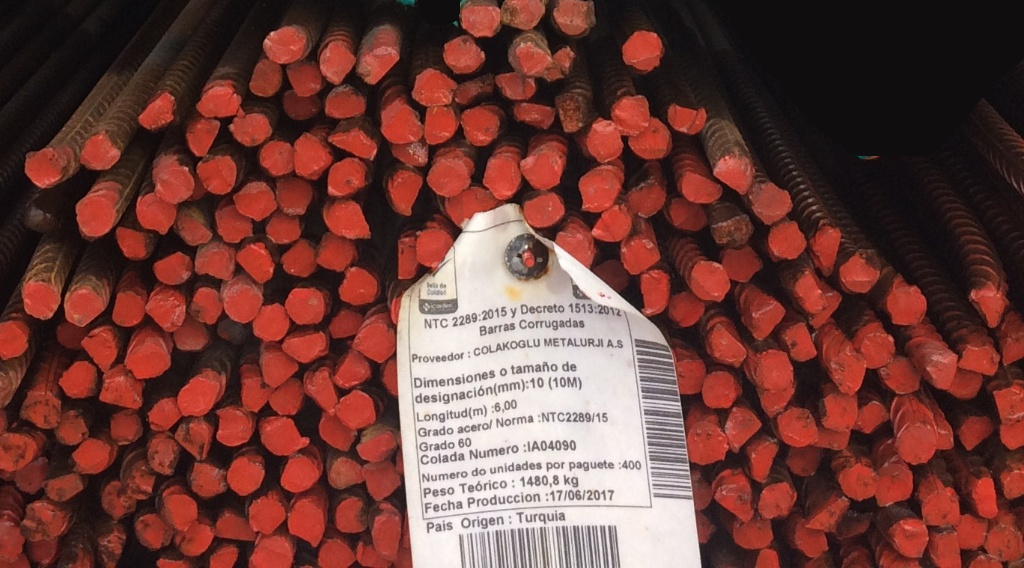dipstick: (445, 187, 499, 232), (683, 421, 729, 466), (578, 165, 622, 212), (742, 293, 786, 340), (711, 470, 753, 519), (687, 260, 733, 304), (706, 207, 754, 249), (626, 116, 670, 160), (706, 321, 748, 367), (355, 319, 397, 364), (316, 42, 357, 88), (125, 340, 171, 381), (261, 414, 309, 453), (507, 37, 552, 78), (724, 407, 763, 454), (261, 26, 309, 64), (829, 345, 867, 393), (73, 197, 115, 240), (220, 281, 262, 324), (325, 201, 371, 240), (620, 29, 663, 70), (118, 456, 159, 499), (559, 221, 599, 265), (22, 149, 67, 188), (717, 245, 762, 284), (99, 374, 144, 413), (292, 136, 330, 182), (386, 169, 423, 216), (285, 284, 326, 326), (286, 500, 326, 543), (874, 464, 913, 508), (637, 268, 671, 318), (368, 506, 402, 556), (887, 284, 928, 325), (749, 187, 791, 227), (778, 321, 818, 363), (427, 160, 471, 198), (588, 206, 632, 244), (671, 348, 705, 397), (76, 135, 122, 171), (520, 193, 567, 228), (414, 231, 455, 271), (22, 279, 63, 319), (715, 154, 754, 196), (213, 205, 256, 243), (744, 435, 778, 483), (285, 328, 329, 365), (675, 169, 720, 205), (888, 516, 928, 556), (809, 494, 849, 534), (700, 369, 740, 409), (460, 108, 501, 147), (879, 355, 920, 394), (302, 371, 341, 412), (57, 358, 98, 397), (414, 73, 456, 111), (923, 486, 961, 528), (324, 160, 367, 197), (233, 181, 276, 218), (840, 250, 879, 290), (226, 458, 266, 497), (144, 435, 184, 474), (897, 422, 935, 463), (146, 292, 187, 330), (172, 421, 213, 459), (185, 462, 227, 499), (484, 157, 520, 200), (278, 455, 321, 491), (356, 49, 400, 84), (777, 410, 821, 445), (98, 481, 142, 516), (20, 503, 64, 538), (159, 495, 204, 529), (955, 414, 995, 452), (993, 313, 1024, 362), (184, 117, 221, 158), (822, 393, 859, 434), (355, 428, 396, 465), (252, 304, 293, 341), (64, 288, 105, 325), (752, 350, 794, 386), (150, 250, 192, 286), (666, 197, 709, 232), (758, 482, 796, 521), (337, 389, 376, 427), (319, 412, 357, 451), (332, 497, 372, 534), (197, 245, 237, 282), (613, 97, 649, 138), (835, 463, 876, 499), (555, 93, 590, 135), (179, 381, 221, 416), (335, 127, 378, 161), (972, 284, 1005, 328), (257, 350, 301, 383), (858, 330, 895, 369), (135, 197, 175, 233), (587, 121, 623, 161), (273, 177, 313, 213), (359, 462, 399, 498), (212, 409, 252, 445), (383, 108, 424, 143), (196, 160, 237, 195), (133, 514, 174, 549), (592, 258, 634, 292), (198, 86, 241, 119), (235, 244, 273, 281), (420, 106, 459, 142), (188, 286, 224, 325), (80, 332, 119, 368), (763, 221, 803, 256), (337, 270, 379, 303), (111, 286, 144, 328), (73, 439, 115, 472), (926, 347, 958, 390), (246, 498, 289, 530), (986, 522, 1024, 558), (140, 92, 179, 127), (105, 410, 144, 445), (796, 270, 827, 314), (622, 240, 663, 273), (630, 183, 667, 219), (924, 533, 962, 568), (522, 156, 561, 190), (177, 207, 211, 246), (20, 393, 59, 427), (228, 116, 272, 146), (41, 471, 85, 501), (968, 477, 1000, 518), (393, 234, 422, 279), (248, 61, 285, 96), (554, 2, 592, 36), (439, 43, 485, 71), (279, 242, 318, 275), (733, 517, 773, 549), (811, 225, 840, 269), (459, 6, 500, 37), (952, 516, 988, 551), (111, 226, 146, 262), (52, 410, 88, 445), (668, 291, 705, 325), (318, 240, 355, 274), (289, 62, 322, 100), (155, 170, 193, 203), (960, 347, 1001, 377), (168, 321, 209, 351), (259, 141, 294, 176), (807, 292, 842, 327), (334, 352, 368, 388), (669, 101, 706, 134), (146, 399, 183, 432), (503, 1, 546, 29), (811, 423, 851, 453), (175, 525, 215, 555), (795, 522, 830, 556), (513, 103, 557, 130), (949, 364, 982, 400), (263, 210, 299, 243), (785, 443, 822, 475), (267, 383, 304, 415), (322, 90, 365, 117), (1, 524, 27, 568), (756, 389, 798, 416), (326, 456, 361, 488), (59, 538, 96, 568), (249, 542, 291, 568), (212, 510, 246, 542), (929, 416, 956, 456), (24, 539, 61, 568), (97, 530, 129, 563), (389, 142, 431, 167), (1, 436, 31, 471), (214, 317, 250, 346), (281, 97, 326, 120), (857, 400, 888, 433), (994, 387, 1024, 421), (495, 74, 535, 99), (318, 541, 356, 567), (355, 542, 392, 568), (545, 48, 576, 79), (1001, 462, 1024, 503), (843, 510, 872, 542), (692, 469, 713, 513), (328, 311, 361, 338), (457, 80, 495, 103), (1, 322, 25, 358), (16, 463, 45, 492), (694, 510, 718, 543), (240, 382, 268, 410), (882, 548, 921, 568), (57, 323, 87, 349), (205, 547, 242, 568), (999, 420, 1024, 451), (383, 359, 402, 395), (839, 546, 870, 568), (965, 552, 1003, 568), (754, 548, 781, 568), (186, 177, 208, 199), (159, 556, 198, 568)
